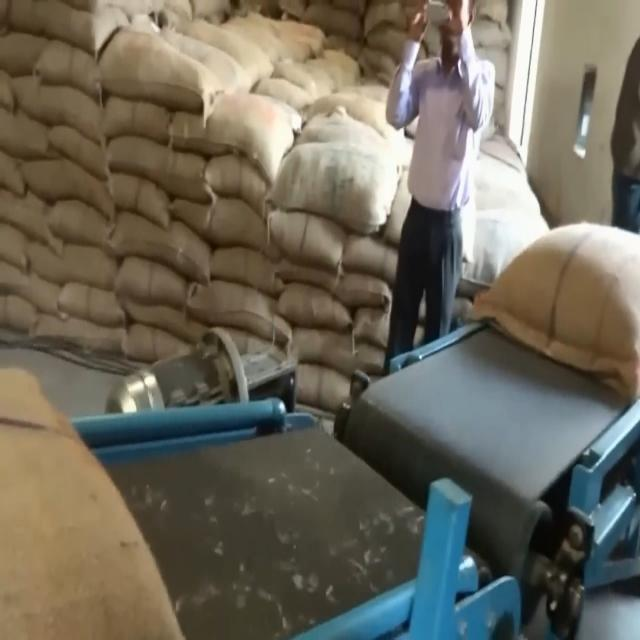gunny_bag: (0, 371, 187, 639), (466, 220, 640, 400), (104, 216, 212, 290), (172, 198, 281, 258), (192, 281, 296, 343), (23, 230, 119, 290), (0, 182, 65, 262), (46, 194, 124, 260), (118, 293, 208, 350), (267, 210, 346, 272), (0, 260, 79, 320), (110, 253, 193, 310), (204, 242, 285, 298), (272, 280, 354, 329), (51, 282, 132, 326), (106, 173, 170, 227)
